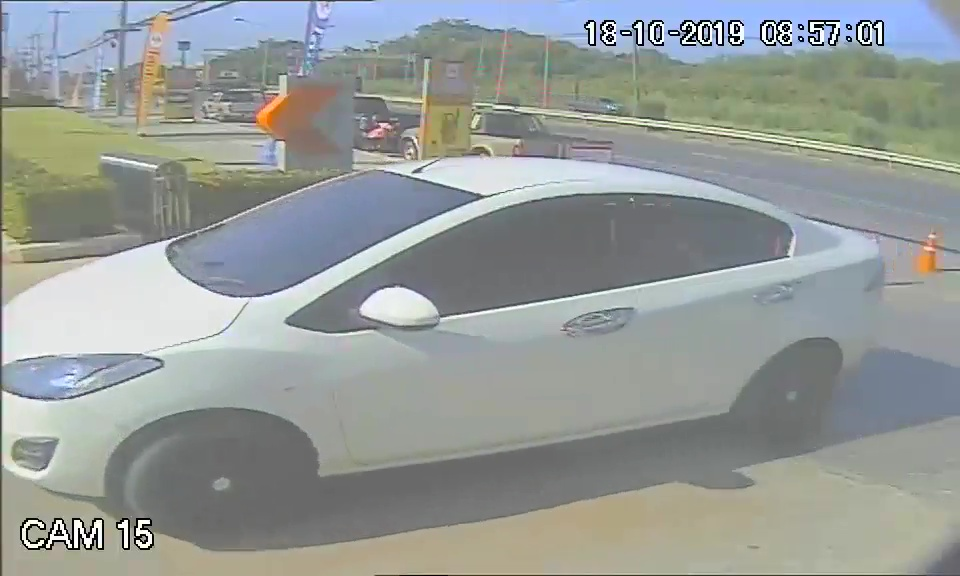sedan: (8, 157, 886, 505)
